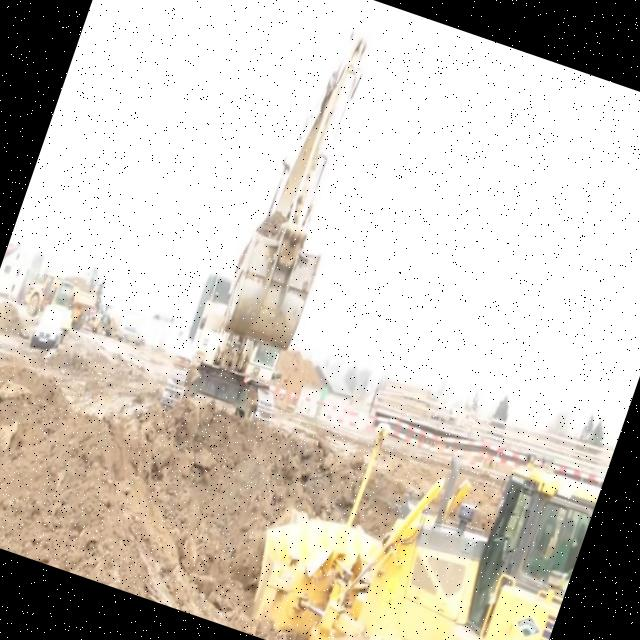Dump Truck: (19, 260, 102, 333)
Excavator: (157, 10, 397, 441)
Loader: (238, 379, 604, 640), (86, 299, 125, 338)
